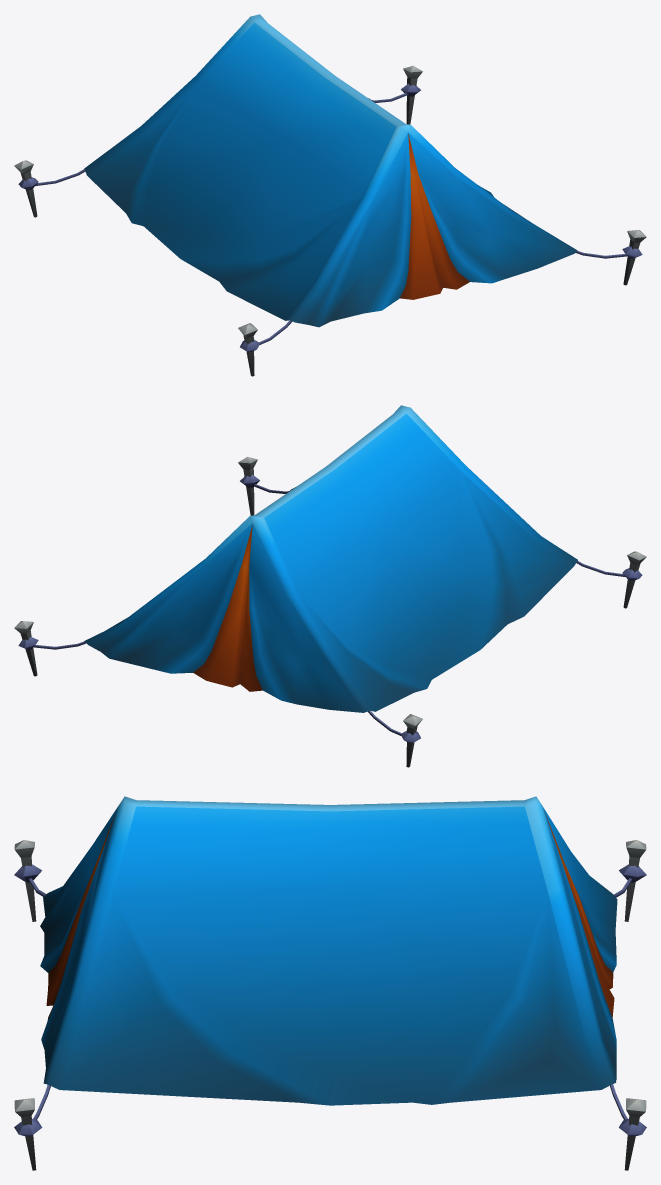
Rendered from Tent_2C.fbx.
3 renders of one model, top to bottom at view 1: azimuth 30°, elevation 25°; view 2: azimuth 150°, elevation 25°; view 3: azimuth 270°, elevation 25°, orthographic. The views are drawn at different scales.
Parts seen in each view (by area): view 1: Tent_2C; view 2: Tent_2C; view 3: Tent_2C.
Boxes of the visible parts, bbox=[...] form: Tent_2C: bbox=[14, 14, 646, 376]; Tent_2C: bbox=[14, 405, 646, 767]; Tent_2C: bbox=[14, 796, 646, 1170].
Bounding box in the file's own units: 418 × 179 × 418.
